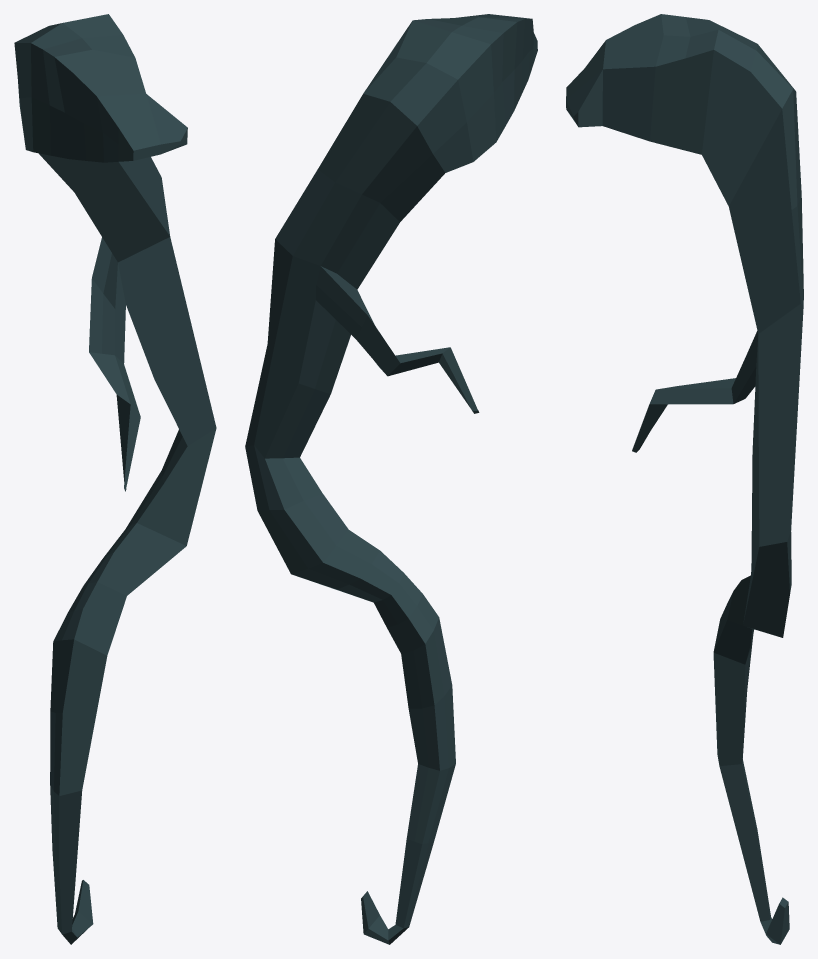
Rendered from Vine_4.fbx.
3 renders of one model, left to right at view 1: azimuth 30°, elevation 25°; view 2: azimuth 150°, elevation 25°; view 3: azimuth 270°, elevation 25°, orthographic. The views are drawn at different scales.
Visible parts, largest first — view 1: Vine 4; view 2: Vine 4; view 3: Vine 4.
Part boxes in pixels (x1,y1,x2,y2): Vine 4: (14,14,216,944); Vine 4: (245,14,537,944); Vine 4: (566,14,803,944).
Bounding box in the file's own units: 1016 × 4194 × 1009.
